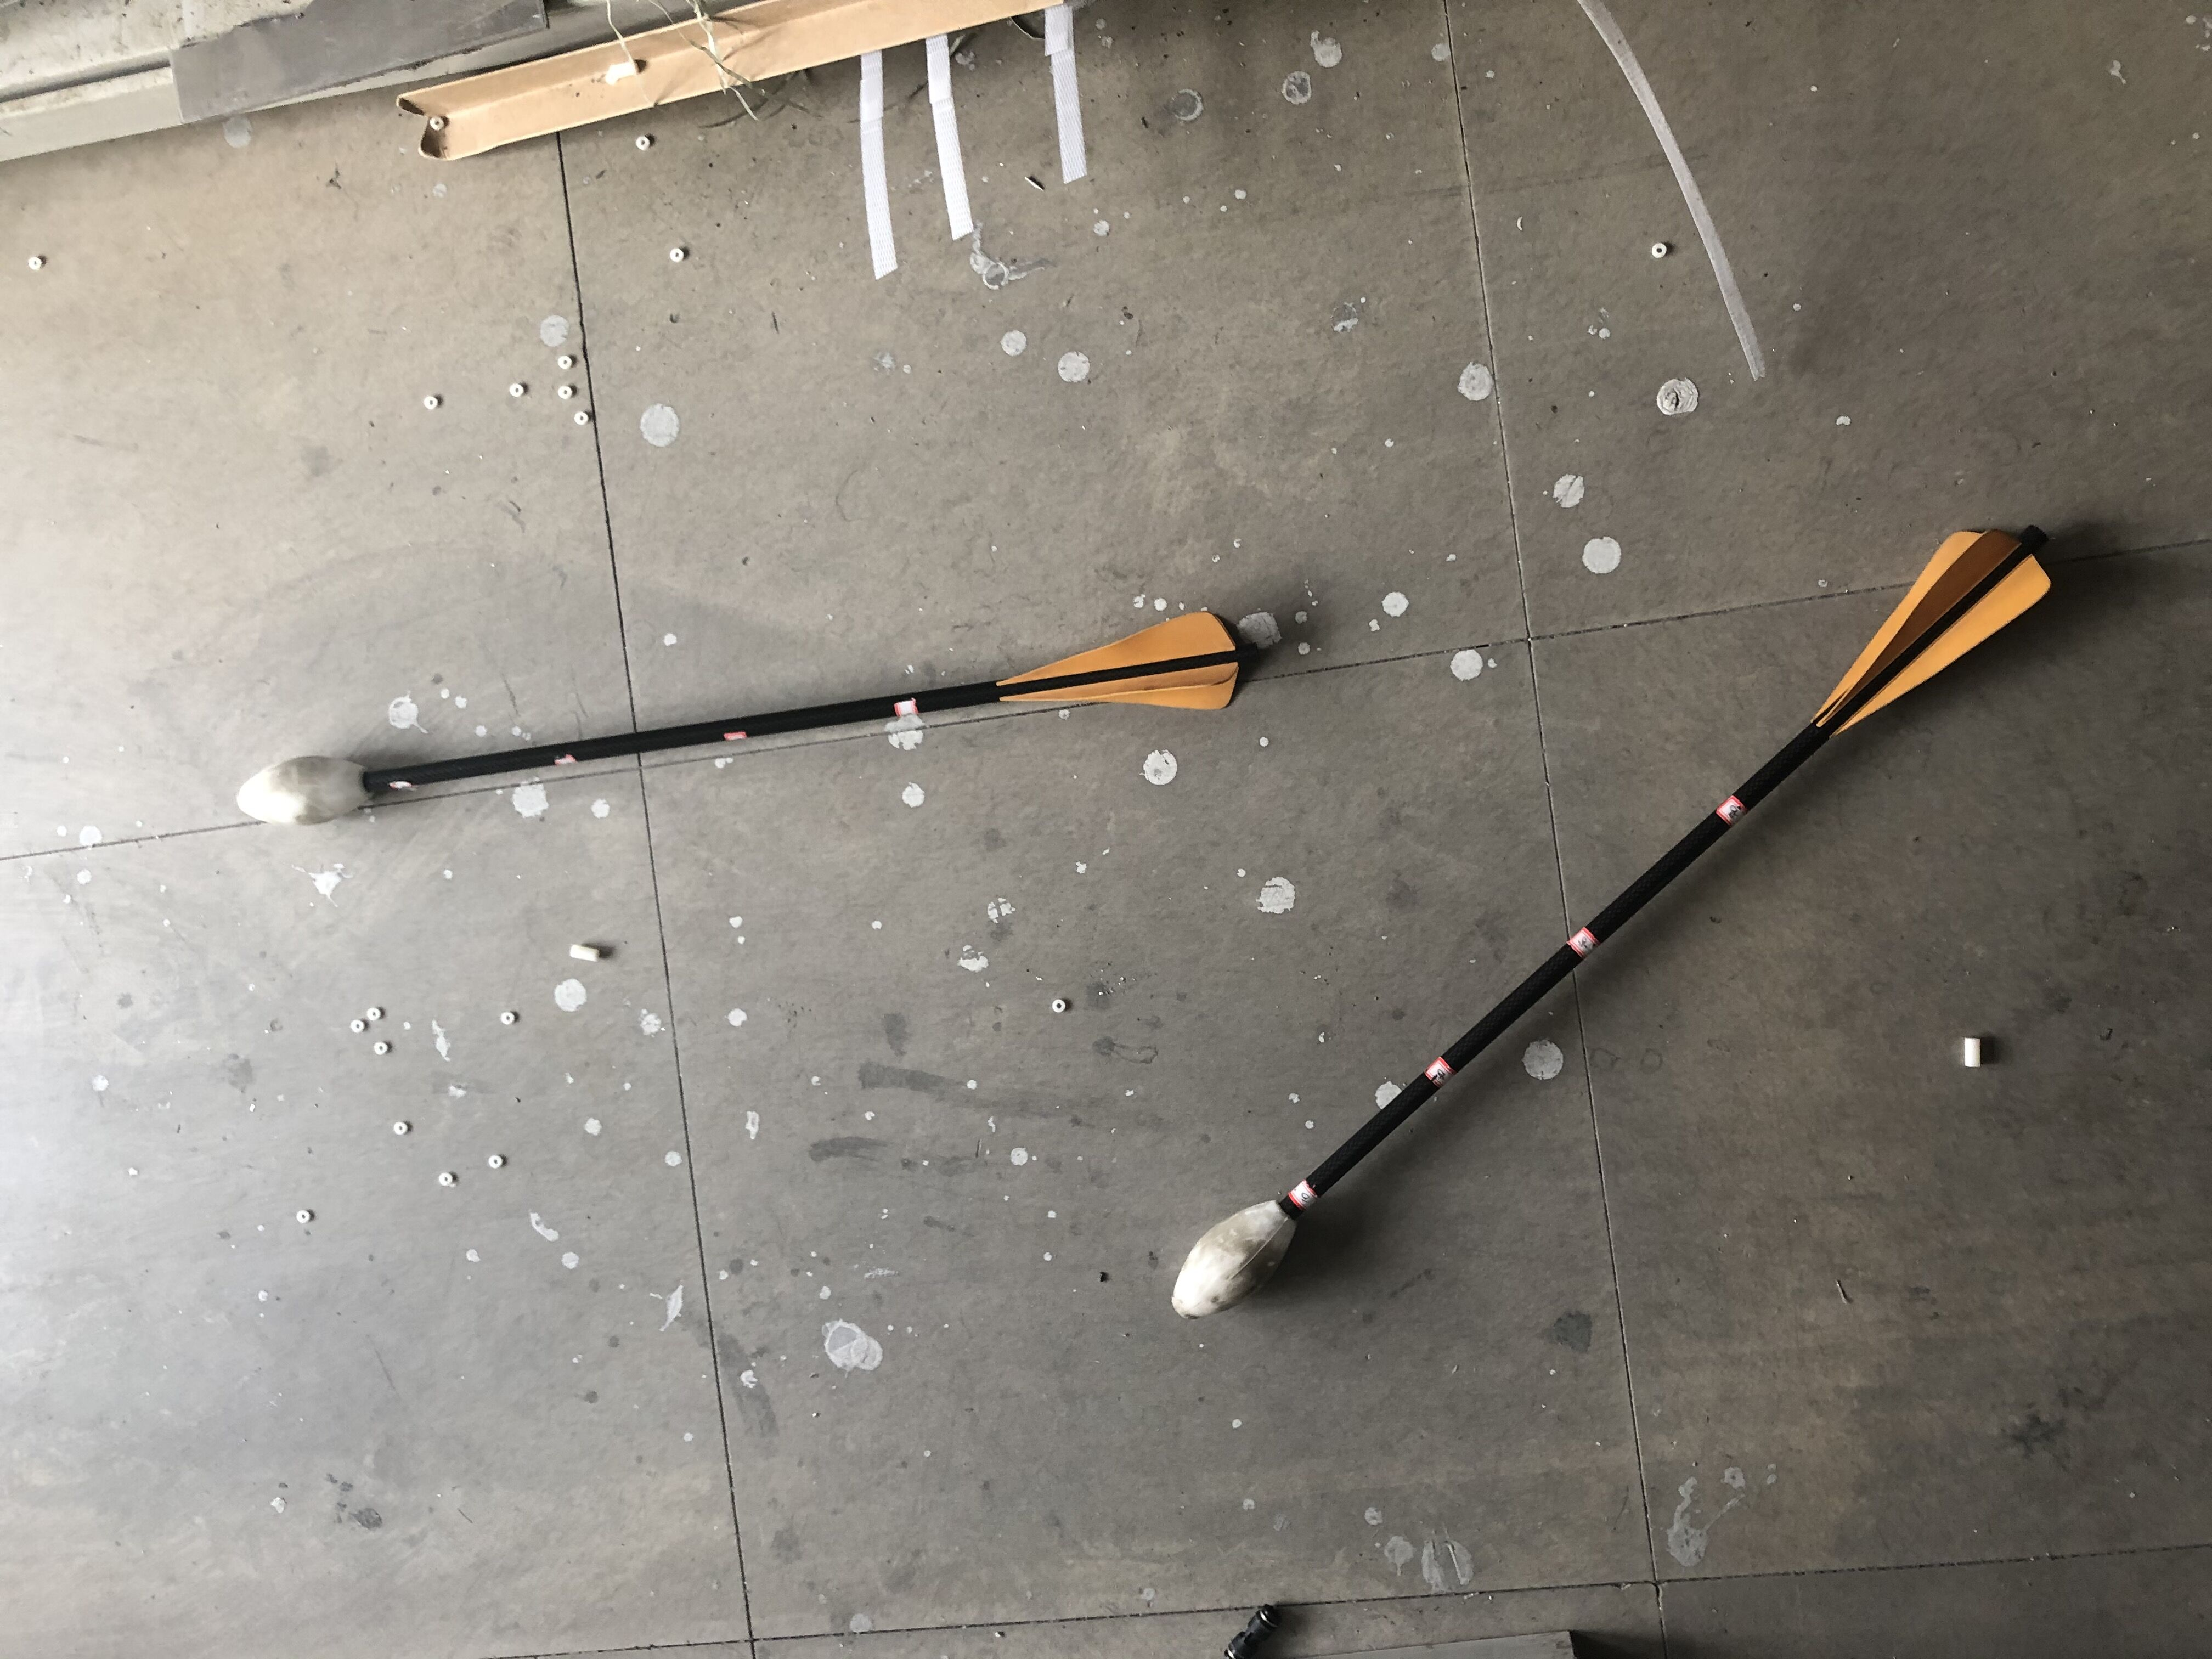arrow: (1167, 525, 2057, 1317), (237, 610, 1263, 826)
arrowFront: (1169, 1202, 1298, 1312), (239, 751, 376, 826)
